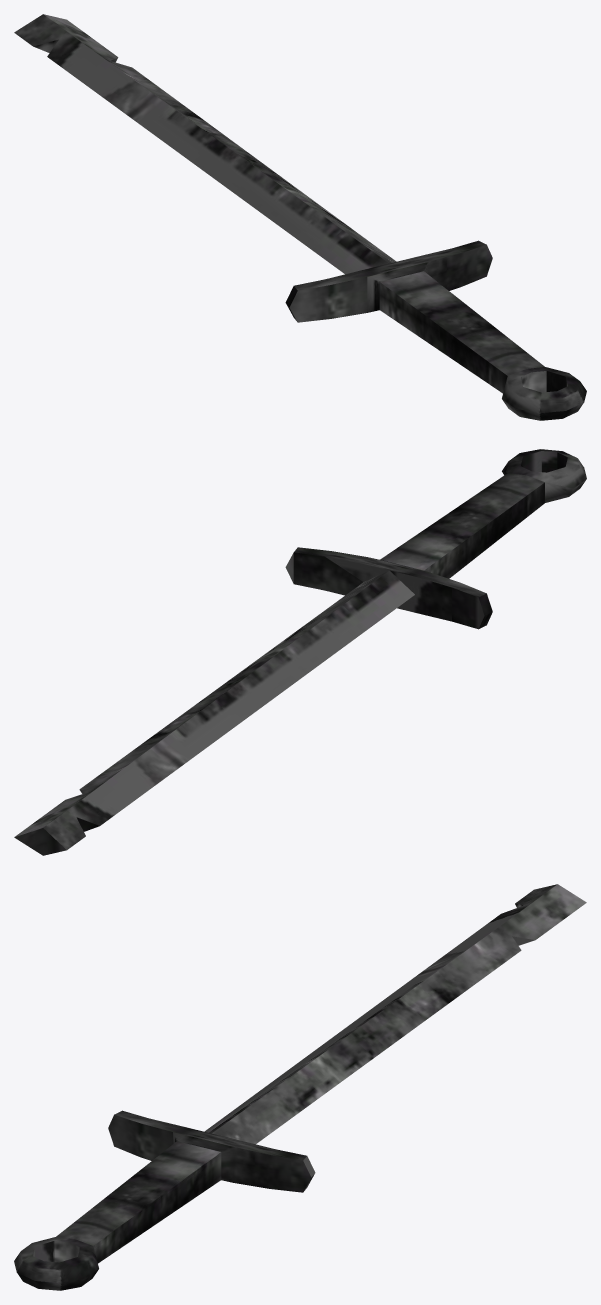
The picture shows the model from 3 angles, top to bottom: view 1: azimuth 30°, elevation 25°; view 2: azimuth 150°, elevation 25°; view 3: azimuth 330°, elevation 25°; orthographic projection.
Parts seen in each view (by area): view 1: mesh_0; view 2: mesh_0; view 3: mesh_0.
Boxes of the visible parts, x1=… form: mesh_0: x1=14, y1=14, x2=586, y2=420; mesh_0: x1=14, y1=449, x2=586, y2=855; mesh_0: x1=14, y1=884, x2=586, y2=1290.
Bounding box in the file's own units: 7.01 × 1.19 × 31.39.
Materials: 1 (1 with a texture image).
